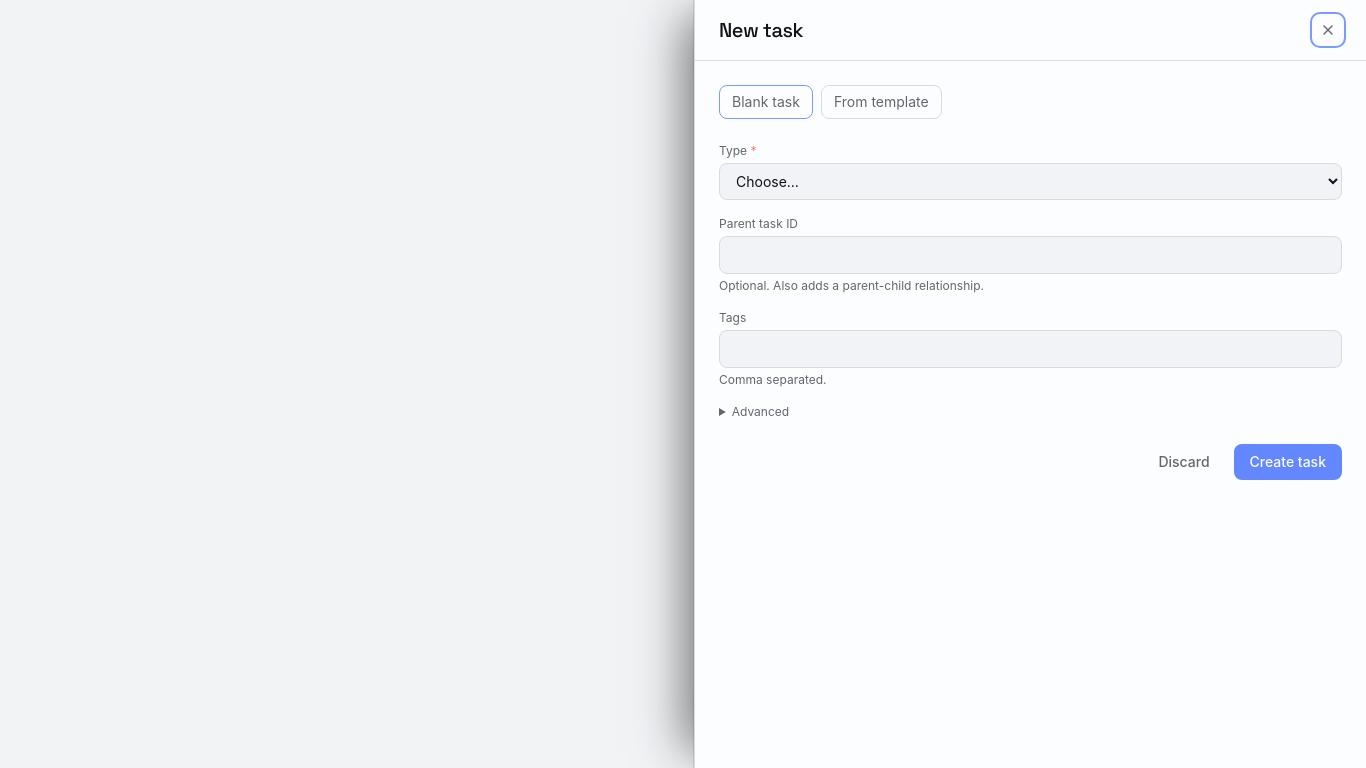
Scenario: a different task holding the ID keeps the input and asks for another ID
Select "bug" in the dropdown labelled "Type *" at (1030, 182), box [719,163,1342,200]
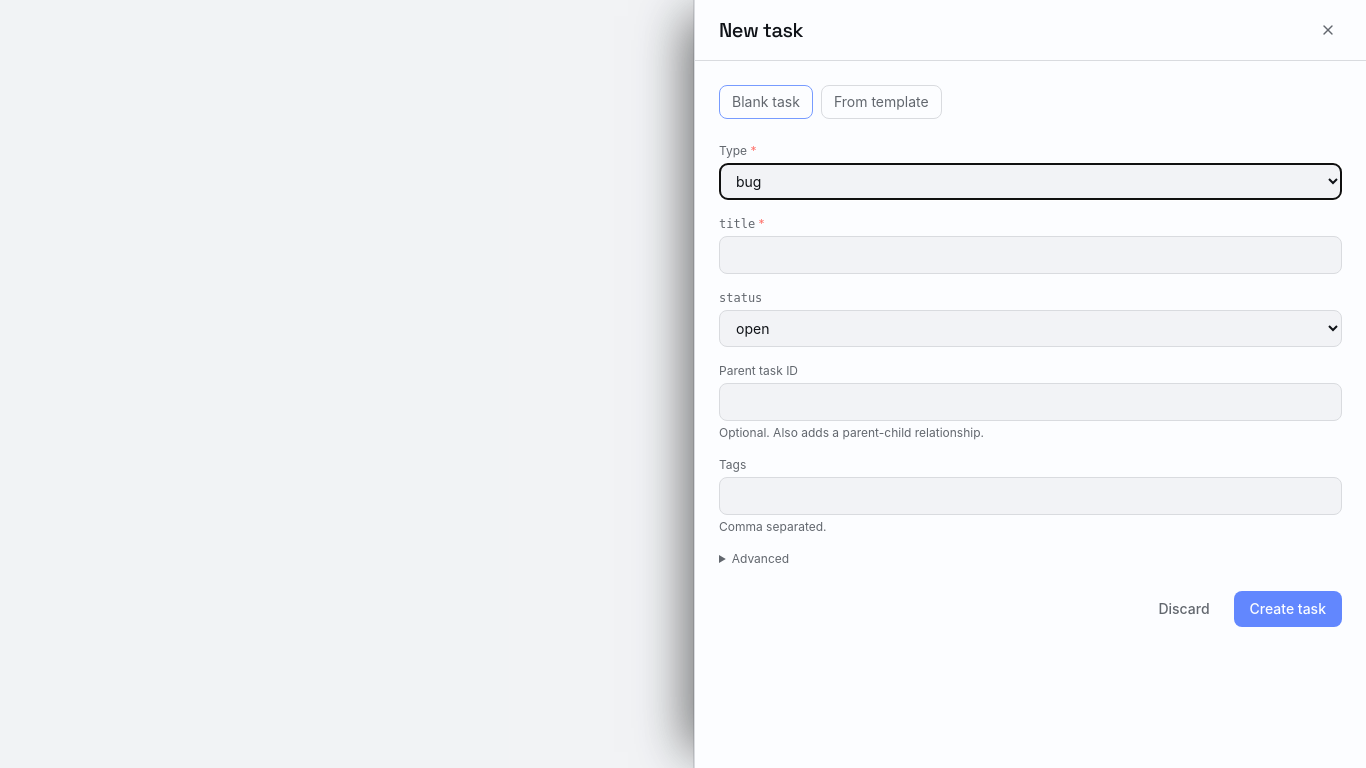
Type "Mine" into the field labelled "title *".
click(1030, 255); type("Mine")  # box [719,236,1342,274]
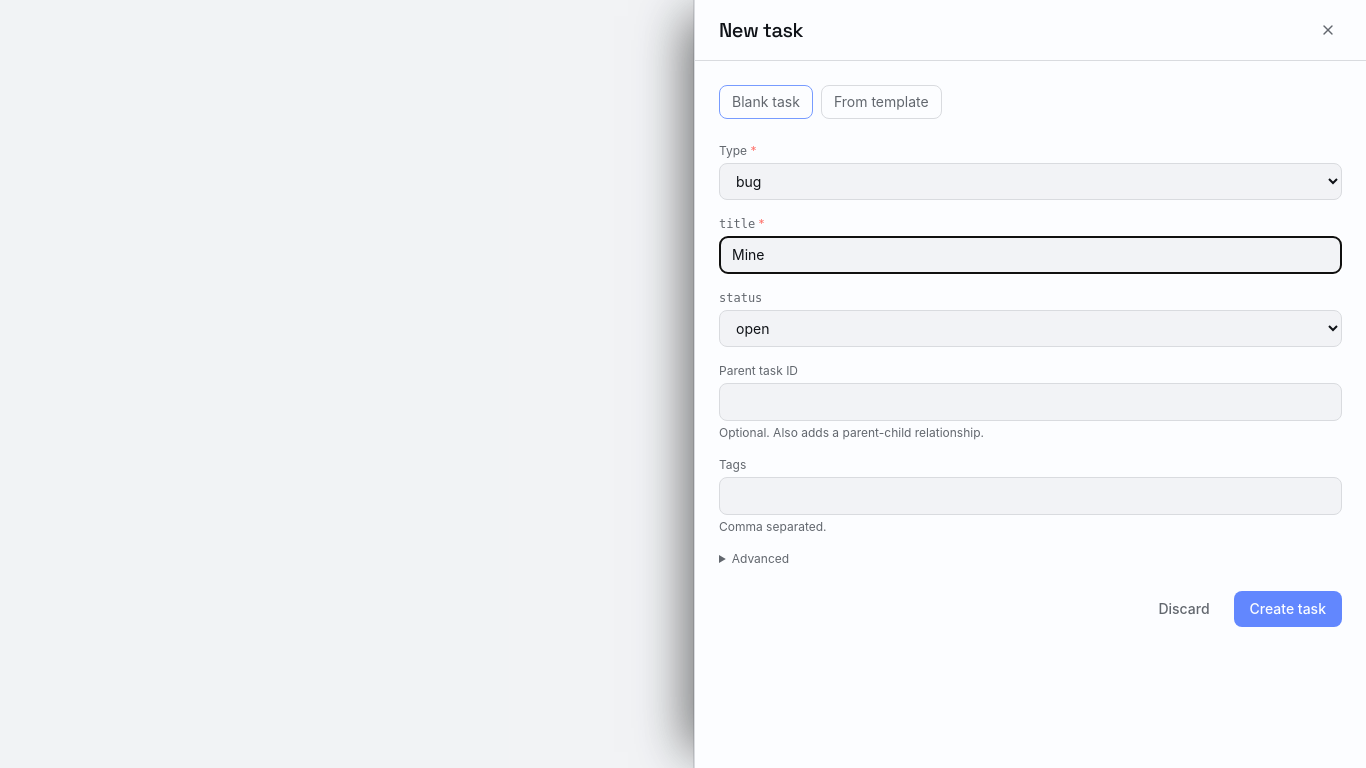
Click the button "Create task".
click(1288, 609)  # box [1234,591,1342,627]
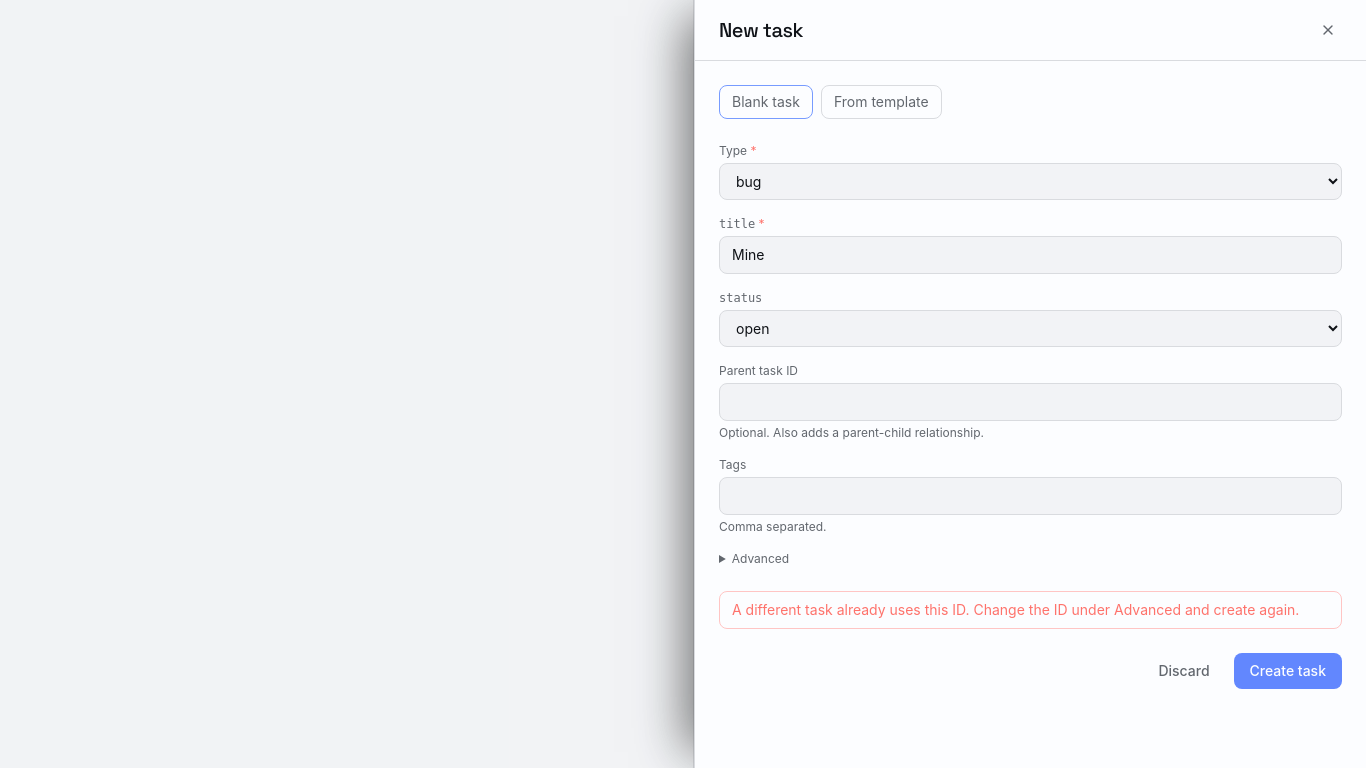
expect the button "Create task" is enabled: met, box [1234,653,1342,689]
expect the text "different task already uses this ID" is shown: met, box [732,601,1299,618]
